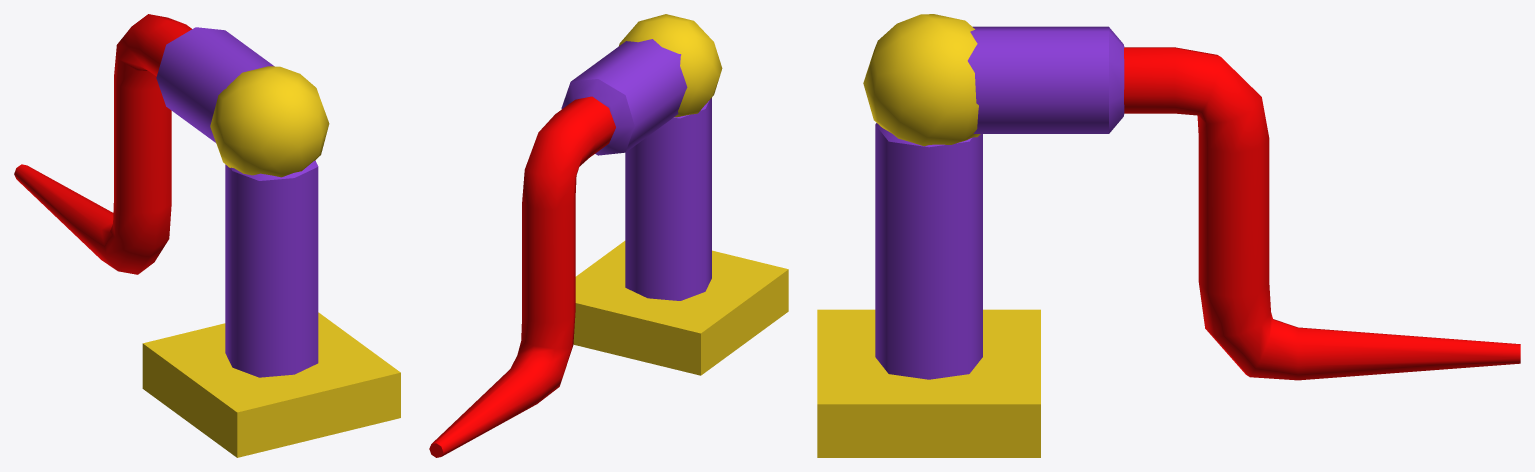
File: tuzak 1.fbx
The picture shows the model from 3 angles, left to right: view 1: azimuth 30°, elevation 25°; view 2: azimuth 150°, elevation 25°; view 3: azimuth 270°, elevation 25°; orthographic projection. The views are drawn at different scales.
Parts seen in each view (by area): view 1: pCube13, pCube12, pCylinder5, pPlatonic2, pCube11; view 2: pCylinder5, pCube13, pCube12, pCube11, pPlatonic2; view 3: pCylinder5, pCube13, pCube12, pCube11, pPlatonic2.
Part boxes in pixels (left/top/right/bottom): pCube13: left=142, top=312, right=400, bottom=457; pCube12: left=225, top=160, right=318, bottom=377; pCylinder5: left=14, top=14, right=191, bottom=274; pPlatonic2: left=210, top=66, right=329, bottom=177; pCube11: left=156, top=27, right=274, bottom=142; pCylinder5: left=429, top=96, right=615, bottom=457; pCube13: left=573, top=241, right=788, bottom=375; pCube12: left=625, top=98, right=711, bottom=300; pCube11: left=561, top=39, right=687, bottom=155; pPlatonic2: left=619, top=14, right=722, bottom=117; pCylinder5: left=1124, top=47, right=1520, bottom=380; pCube13: left=817, top=309, right=1040, bottom=457; pCube12: left=875, top=123, right=982, bottom=379; pCube11: left=967, top=26, right=1124, bottom=133; pPlatonic2: left=863, top=14, right=980, bottom=146.
Size of the model in its own units: 1.36 by 2.63 by 4.29.
